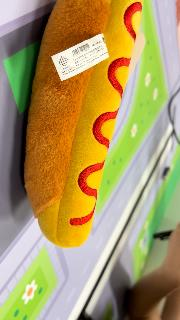hotdog: (23, 1, 144, 249)
